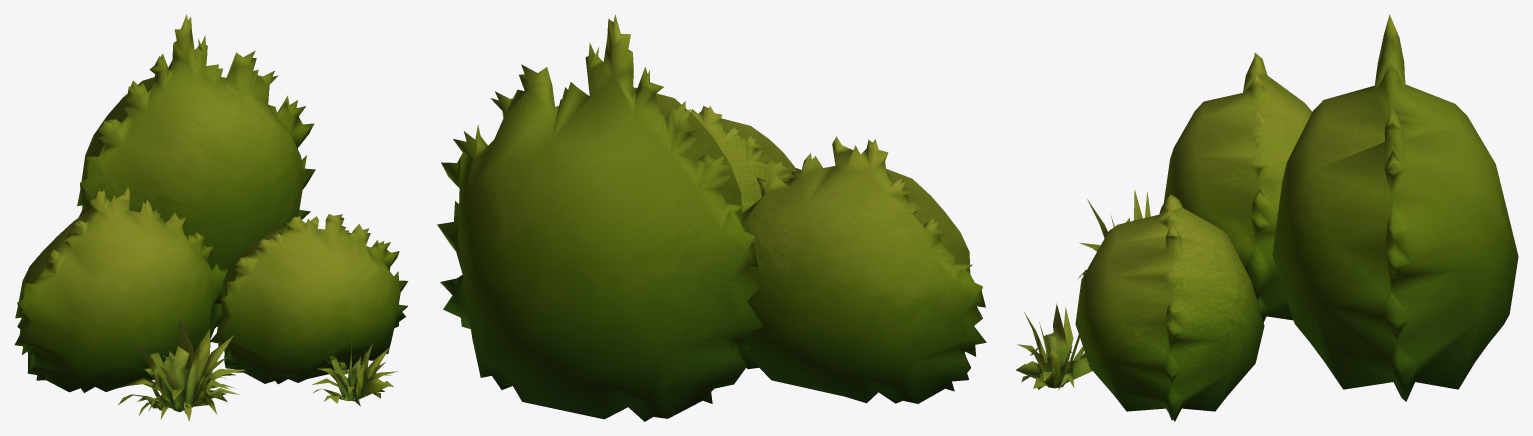
The model's file is Shrub and ornamental-grass cluster 3d model.glb.
The picture shows the model from 3 angles, left to right: view 1: azimuth 30°, elevation 25°; view 2: azimuth 150°, elevation 25°; view 3: azimuth 270°, elevation 25°; orthographic projection. The views are drawn at different scales.
Parts seen in each view (by area): view 1: tripo_node_9f5418ab-a2d6-4a6a-bbf0-9b13d66ce881; view 2: tripo_node_9f5418ab-a2d6-4a6a-bbf0-9b13d66ce881; view 3: tripo_node_9f5418ab-a2d6-4a6a-bbf0-9b13d66ce881.
Part boxes in pixels (bbox=[...]): tripo_node_9f5418ab-a2d6-4a6a-bbf0-9b13d66ce881: bbox=[14, 14, 408, 421]; tripo_node_9f5418ab-a2d6-4a6a-bbf0-9b13d66ce881: bbox=[437, 14, 986, 421]; tripo_node_9f5418ab-a2d6-4a6a-bbf0-9b13d66ce881: bbox=[1016, 14, 1518, 421].
Size of the model in its own units: 0.998 by 0.7676 by 0.998.
Materials: 1 (1 with a texture image).
